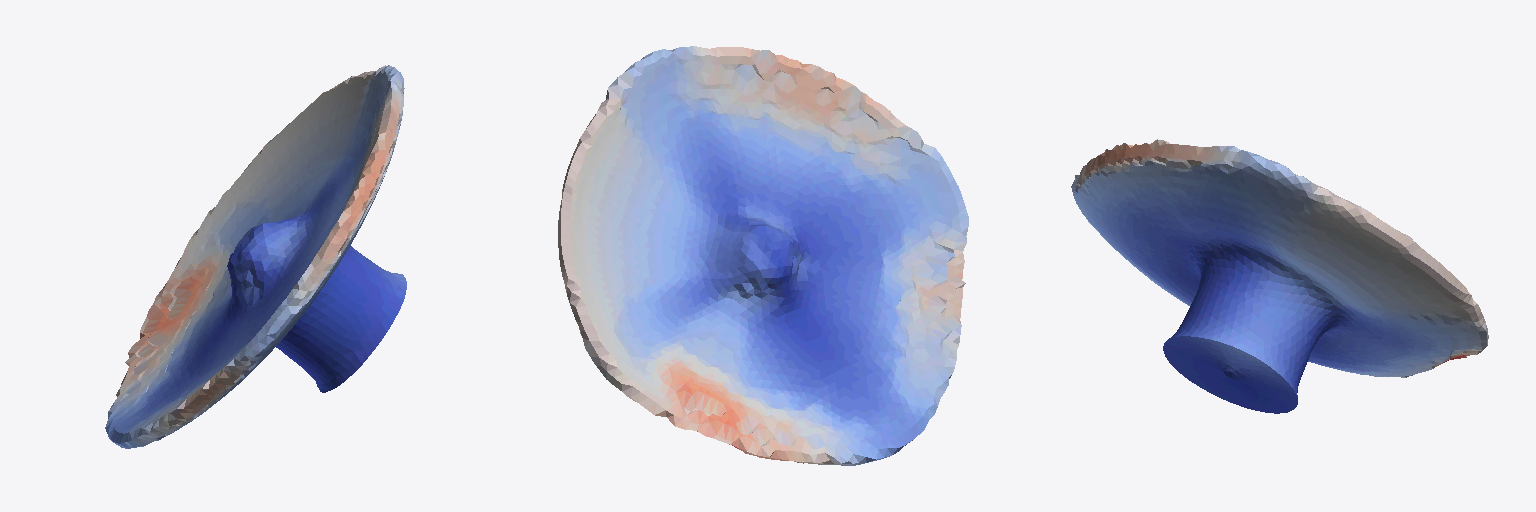
Rendered from colored_model_disk.obj.
3 views of the same model, side by side, from view 1: azimuth 30°, elevation 25°; view 2: azimuth 150°, elevation 25°; view 3: azimuth 270°, elevation 25° (orthographic).
Bounding box in the file's own units: 12.48 × 13.29 × 15.28.